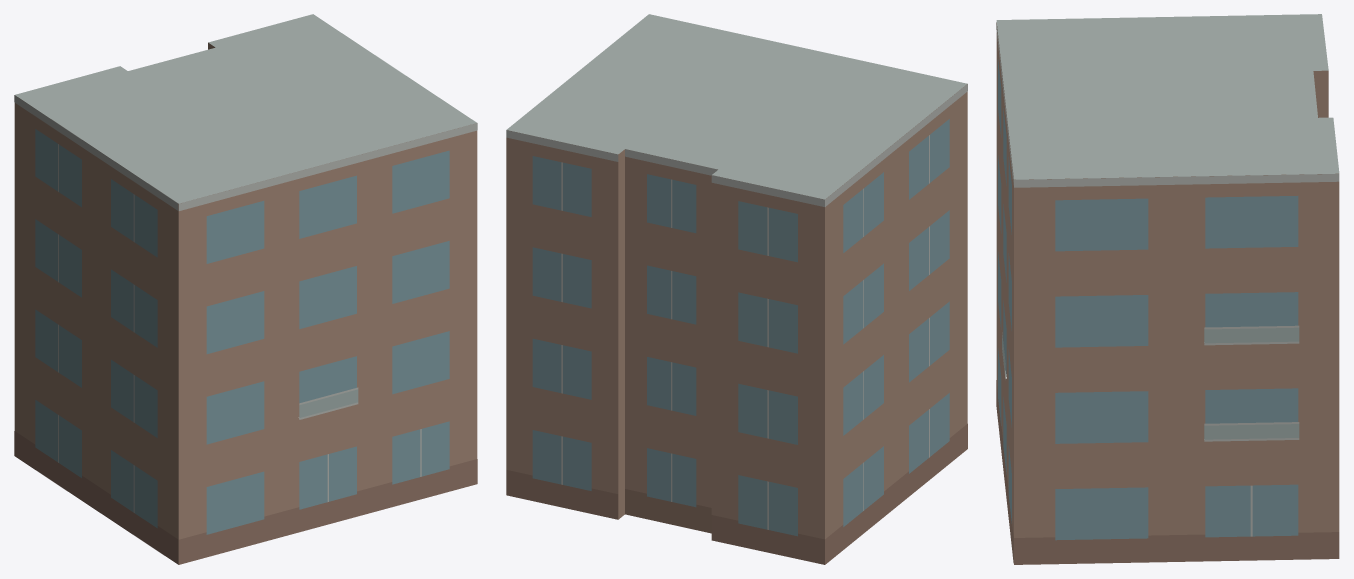
Rendered from survey-upis-32697545.glb.
3 renders of one model, left to right at view 1: azimuth 30°, elevation 25°; view 2: azimuth 150°, elevation 25°; view 3: azimuth 270°, elevation 25°, orthographic. The views are drawn at different scales.
Parts seen in each view (by area): view 1: survey-upis-32697545.tmp; view 2: survey-upis-32697545.tmp; view 3: survey-upis-32697545.tmp.
Boxes of the visible parts, left/top/right/bottom form: survey-upis-32697545.tmp: left=14, top=14, right=477, bottom=564; survey-upis-32697545.tmp: left=506, top=14, right=967, bottom=564; survey-upis-32697545.tmp: left=996, top=14, right=1339, bottom=564.
Bounding box in the file's own units: 10.76 × 11.65 × 9.41.
